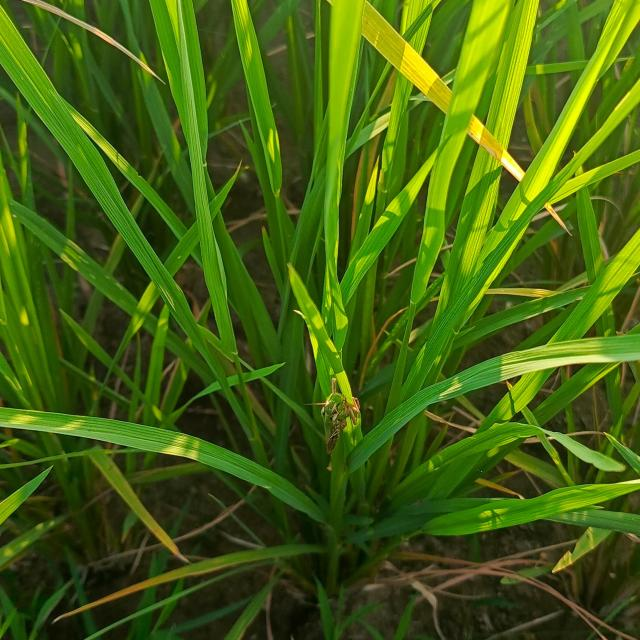belalang pada tanaman padi: (305, 377, 363, 468)
rice leaf roller -penggulung daun padi-: (2, 2, 638, 632)
